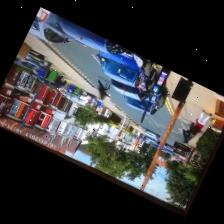person: (191, 109, 211, 134), (97, 76, 110, 99), (182, 122, 193, 142)
